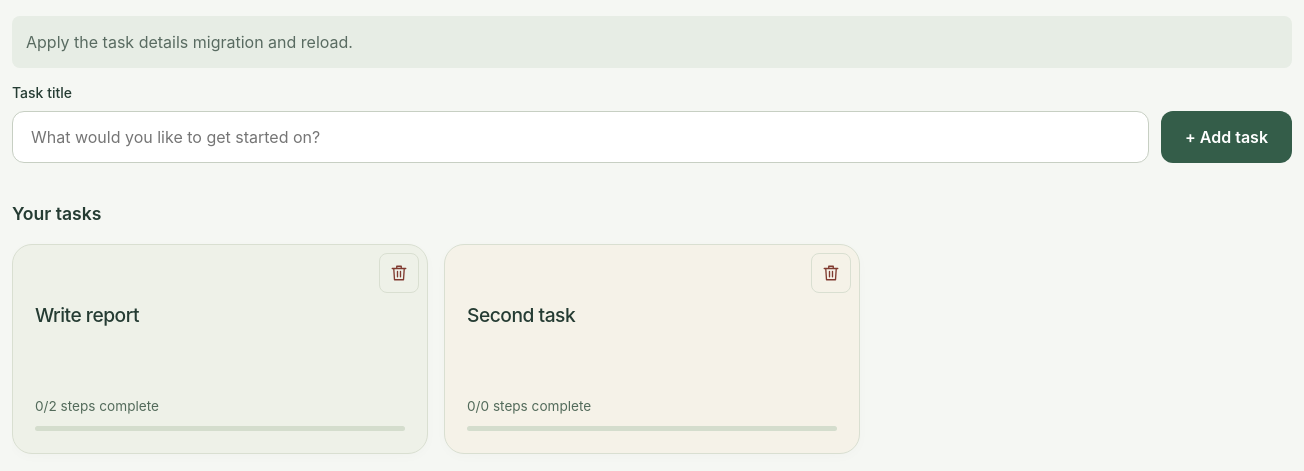
before migration, title-only tasks still work and new fields and handles are unavailable
expect the text "Apply the task details migration and reload." is shown: met, box [12,16,1292,68]
Type "Legacy task" into the field labelled "Task title". click: (580, 137)
box: [12,111,1149,163]
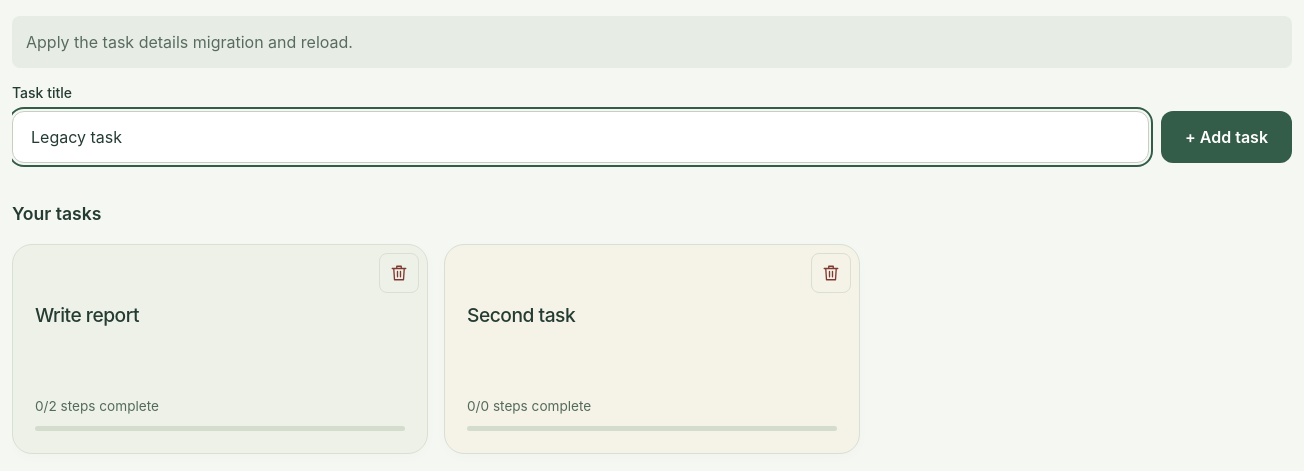
Click the button with aria-label "Create task". click: (1226, 137)
box: [1161,111,1292,163]
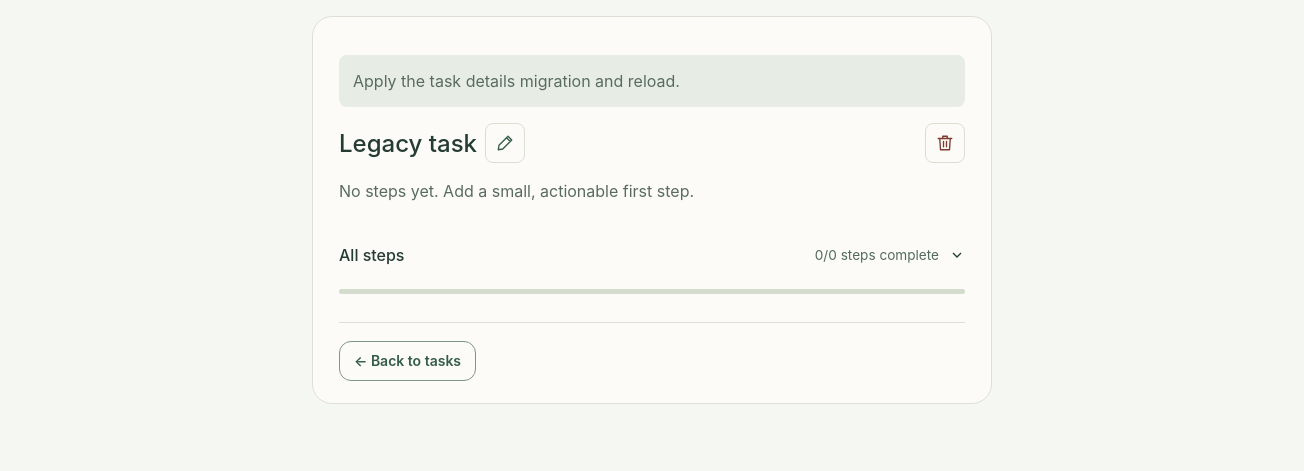
expect the heading "Legacy task" is shown: met, box [339,128,477,158]
